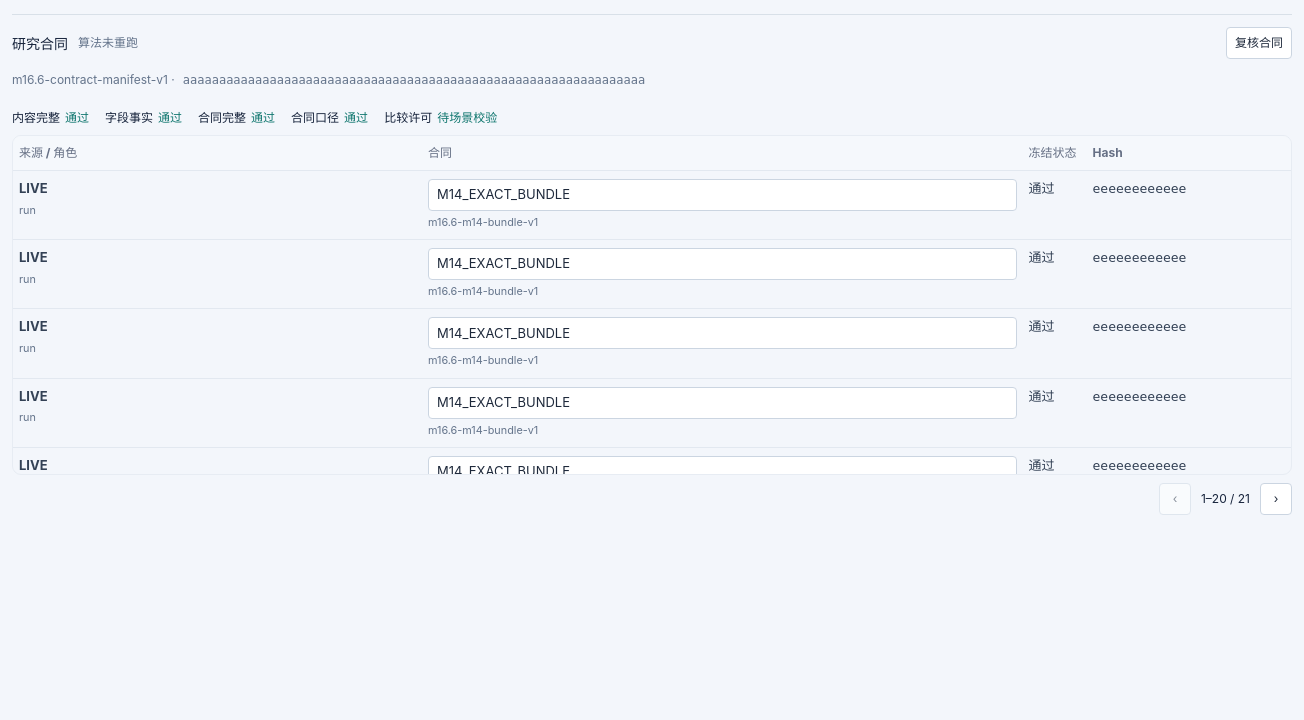
Test: renders distinct levels, safe details and keyboard-accessible pagination
Expected: the button named "上一页" is disabled, [1159,483,1191,515]
What coordinates should you click on to do the following:
click the button named "下一页"
I would click on:
 (1276, 499)
Its box is [1260,483,1292,515].
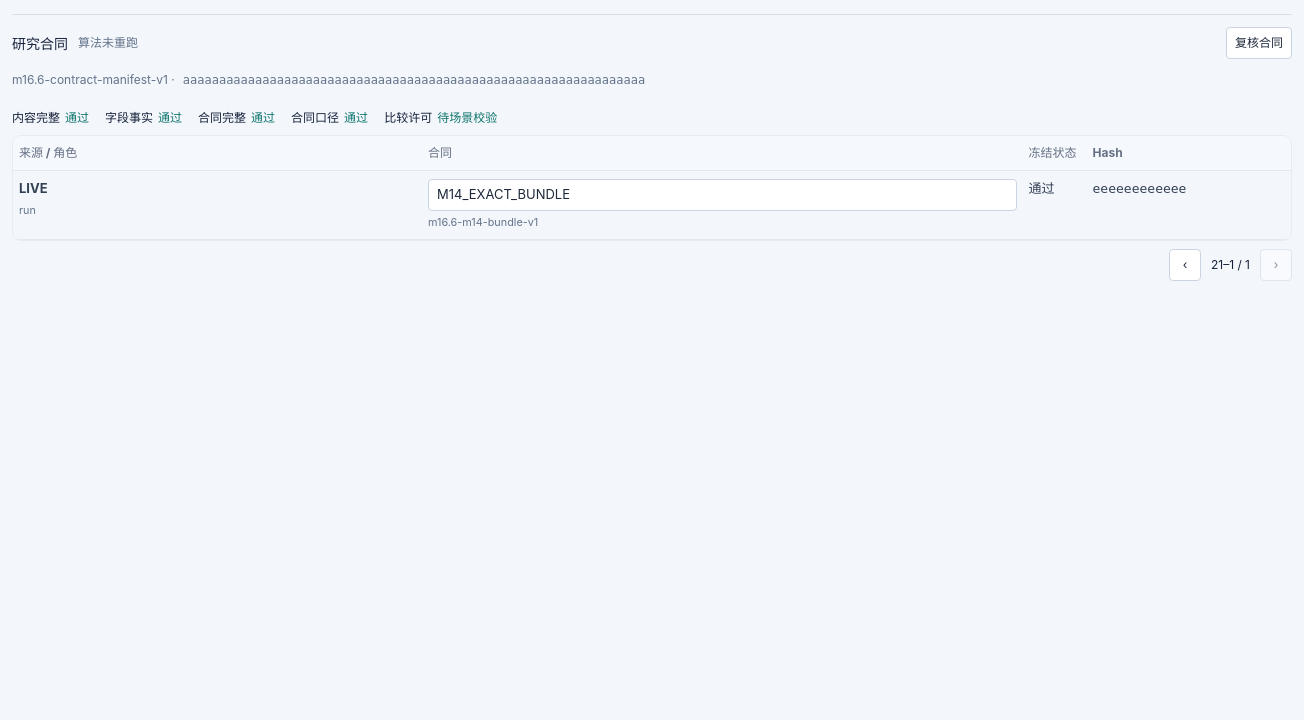
What coordinates should you click on to do the following:
click the button "M14_EXACT_BUNDLE"
I would click on:
 (503, 194)
Its box is [428,179,1017,211].
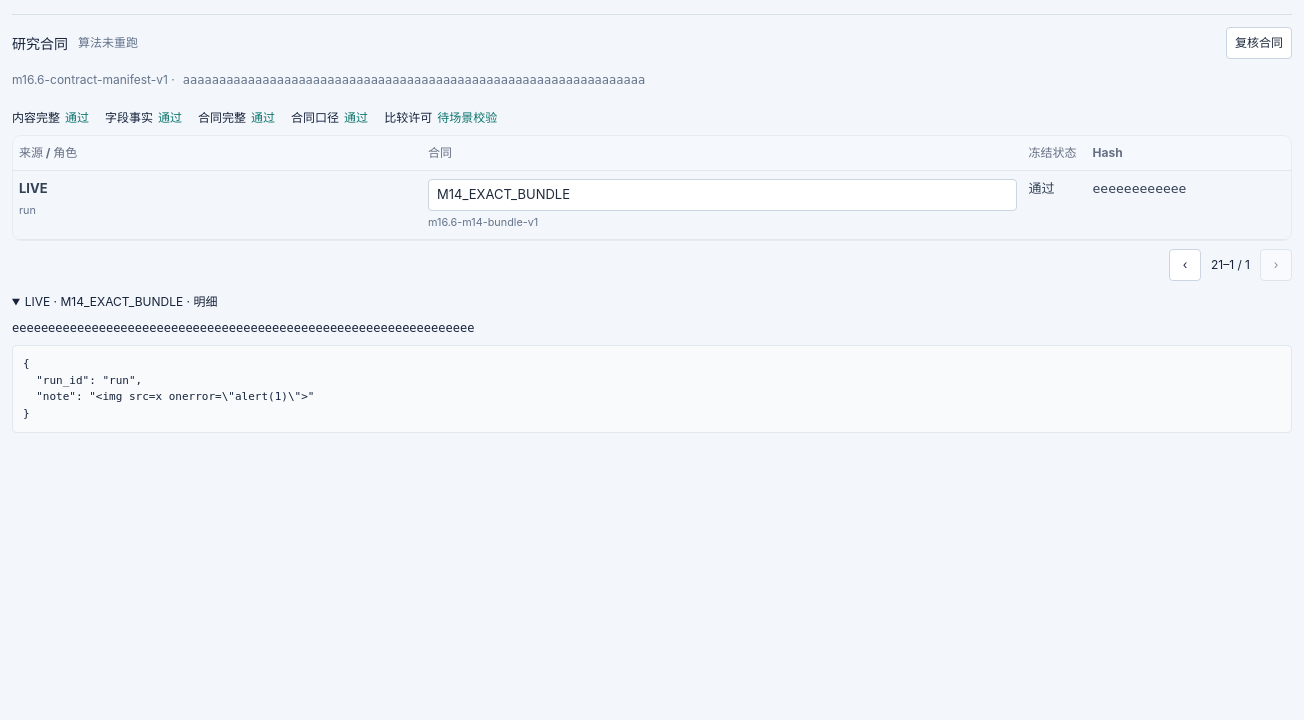
Expected: the text "onerror" is shown, [23,357,314,420]
